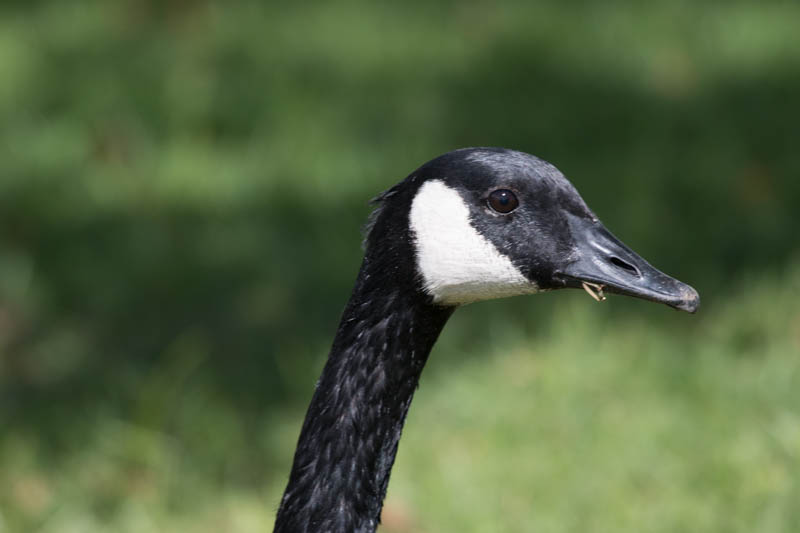goose-head: (375, 148, 702, 313)
